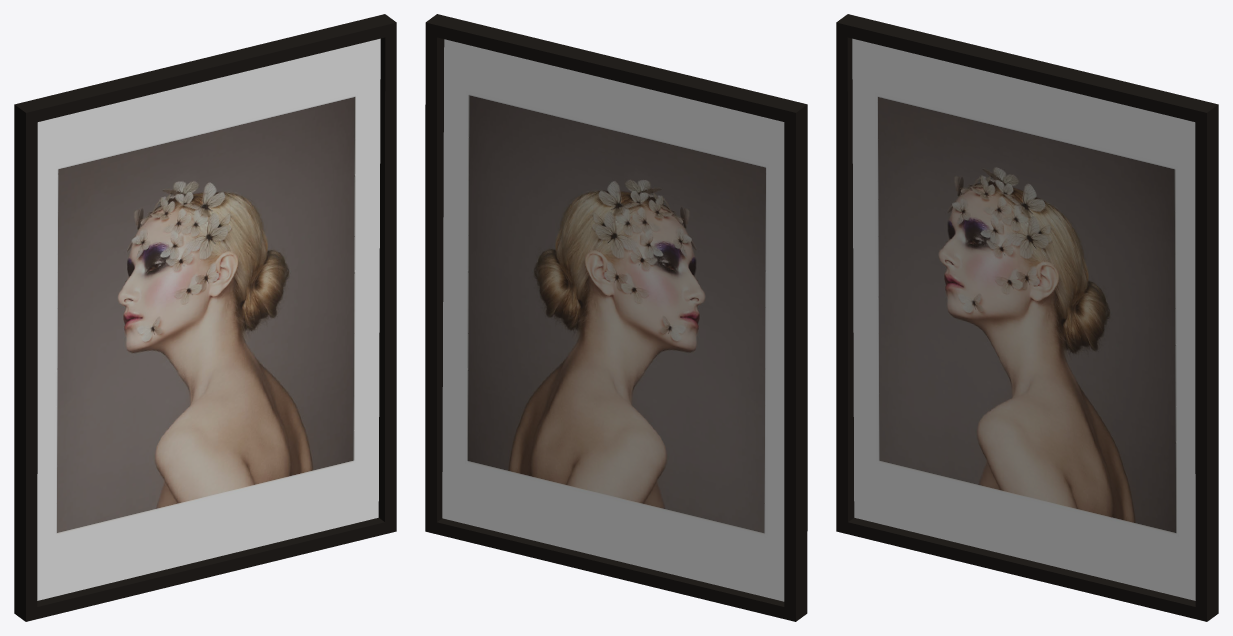
Rendered from P655094_kvinnan_med_fjarilarna_30x40_WEBB.glb.
3 views of the same model, side by side, from view 1: azimuth 30°, elevation 25°; view 2: azimuth 150°, elevation 25°; view 3: azimuth 330°, elevation 25° (orthographic).
Parts seen in each view (by area): view 1: P655208_vintervass_30x40_WEBB, Frame2; view 2: P655208_vintervass_30x40_WEBB, Frame2; view 3: P655208_vintervass_30x40_WEBB, Frame2.
Part boxes in pixels (x1=…): P655208_vintervass_30x40_WEBB: x1=37, y1=38, x2=380, y2=600; Frame2: x1=14, y1=14, x2=396, y2=621; P655208_vintervass_30x40_WEBB: x1=442, y1=39, x2=784, y2=601; Frame2: x1=425, y1=14, x2=807, y2=621; P655208_vintervass_30x40_WEBB: x1=852, y1=38, x2=1195, y2=600; Frame2: x1=836, y1=14, x2=1218, y2=621.
Bounding box in the file's own units: 0.2576 × 0.3381 × 0.0143.
Materials: 2 (2 with a texture image).
